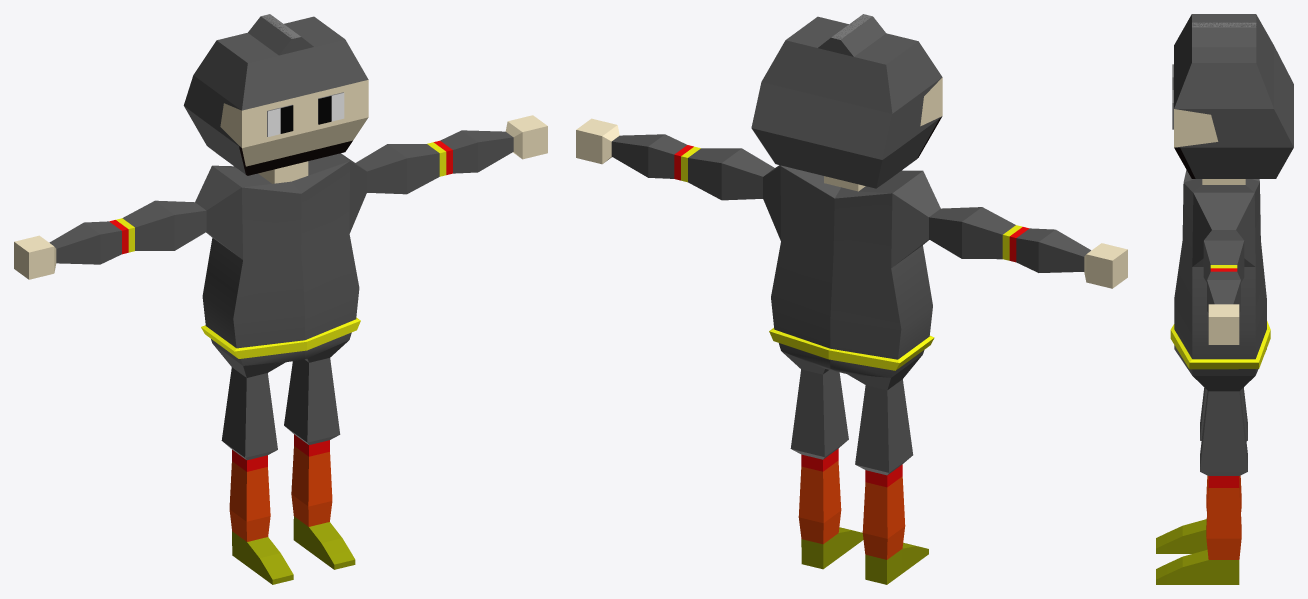
Rendered from Soldadoi (modelo y texturas).fbx.
The picture shows the model from 3 angles, left to right: view 1: azimuth 30°, elevation 25°; view 2: azimuth 150°, elevation 25°; view 3: azimuth 270°, elevation 25°; orthographic projection. The views are drawn at different scales.
Parts seen in each view (by area): view 1: Soldado; view 2: Soldado; view 3: Soldado.
Part boxes in pixels (x1,y1,x2,y2): Soldado: (14,14,547,584); Soldado: (576,14,1127,584); Soldado: (1156,14,1293,584).
Bounding box in the file's own units: 97.44 × 94.06 × 21.78.
